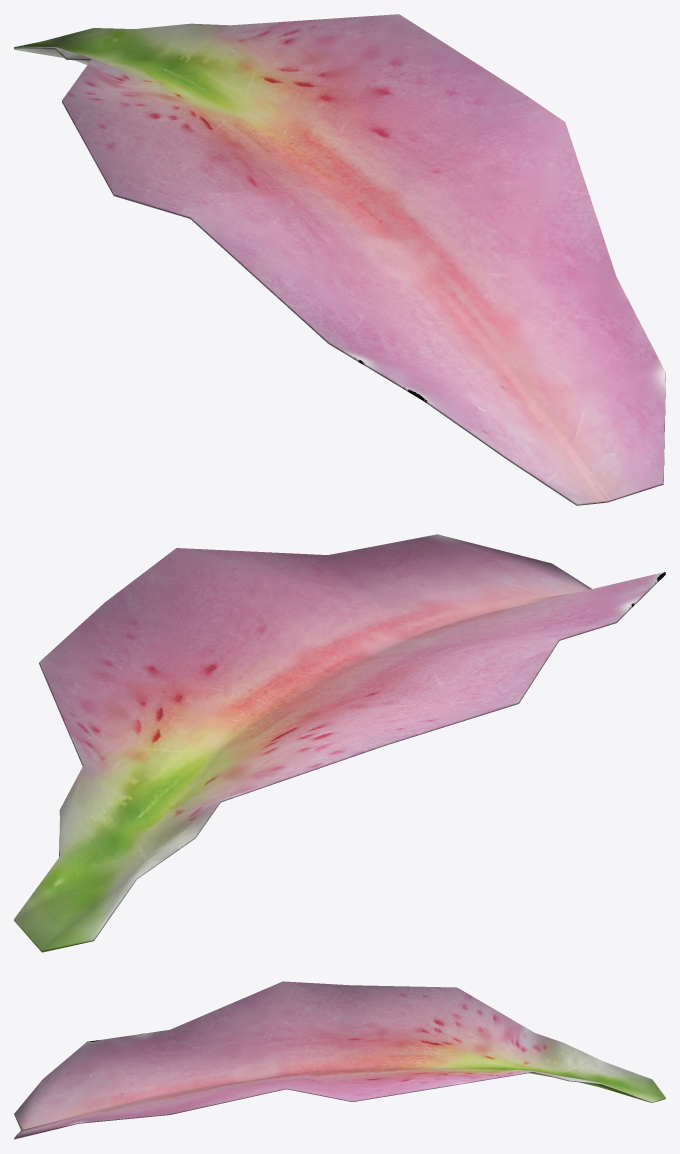
File: Lily_PetalA_1.gltf
3 views of the same model, one above another, from view 1: azimuth 30°, elevation 25°; view 2: azimuth 150°, elevation 25°; view 3: azimuth 270°, elevation 25° (orthographic). The views are drawn at different scales.
Visible parts, largest first — view 1: PetalA.001; view 2: PetalA.001; view 3: PetalA.001.
Boxes of the visible parts, box(x1,y1,x2,y2) form: PetalA.001: box(14, 14, 665, 505); PetalA.001: box(14, 534, 665, 952); PetalA.001: box(14, 981, 665, 1139).
Size of the model in its own units: 1.8 by 0.7102 by 4.28.
1 material, 1 textured.
